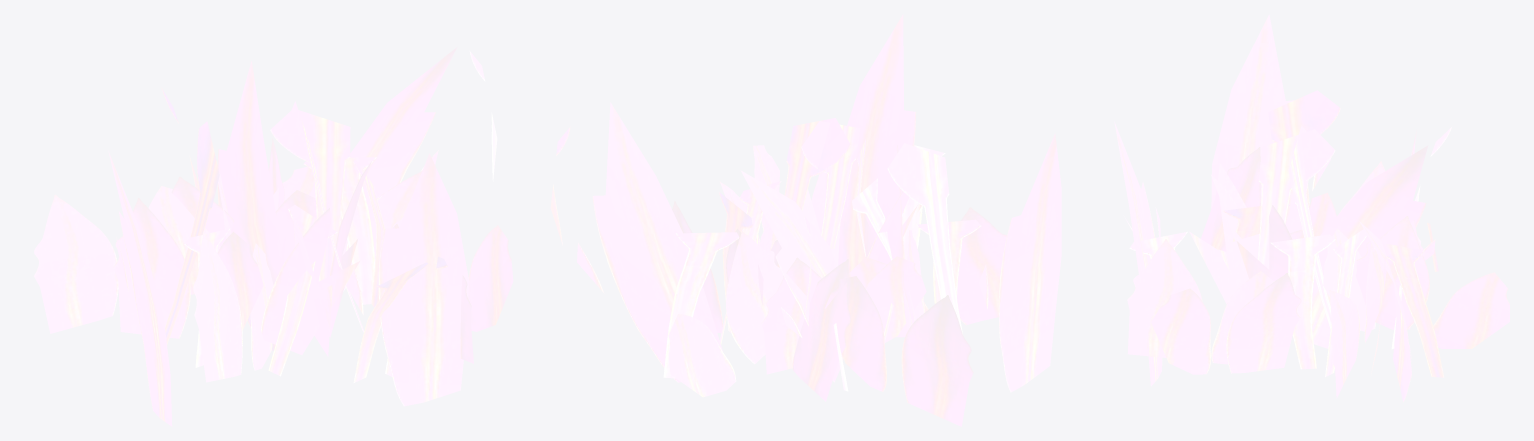
3 views of the same model, side by side, from view 1: azimuth 30°, elevation 25°; view 2: azimuth 150°, elevation 25°; view 3: azimuth 270°, elevation 25° (orthographic). The views are drawn at different scales.
Parts seen in each view (by area): view 1: SM_GF_Sm_Plant_01_LOD0; view 2: SM_GF_Sm_Plant_01_LOD0; view 3: SM_GF_Sm_Plant_01_LOD0.
Part boxes in pixels (<box>): SM_GF_Sm_Plant_01_LOD0: <box>34,47,513,426</box>; SM_GF_Sm_Plant_01_LOD0: <box>550,14,1061,426</box>; SM_GF_Sm_Plant_01_LOD0: <box>1114,14,1509,402</box>.
Size of the model in its own units: 0.8425 by 0.491 by 0.7399.
